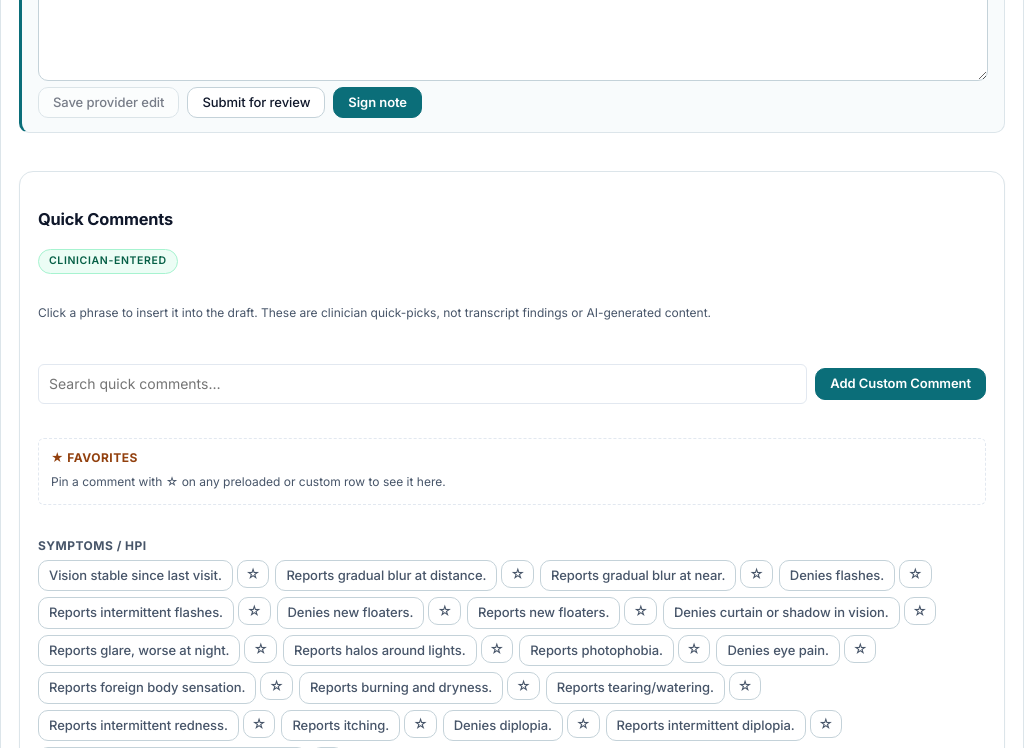
NoteWorkspace › search filters the preloaded pack
(page scrolled)
Type "macula" into the search field with test id "quick-comments-search" at (423, 384), box [38,364,807,404]
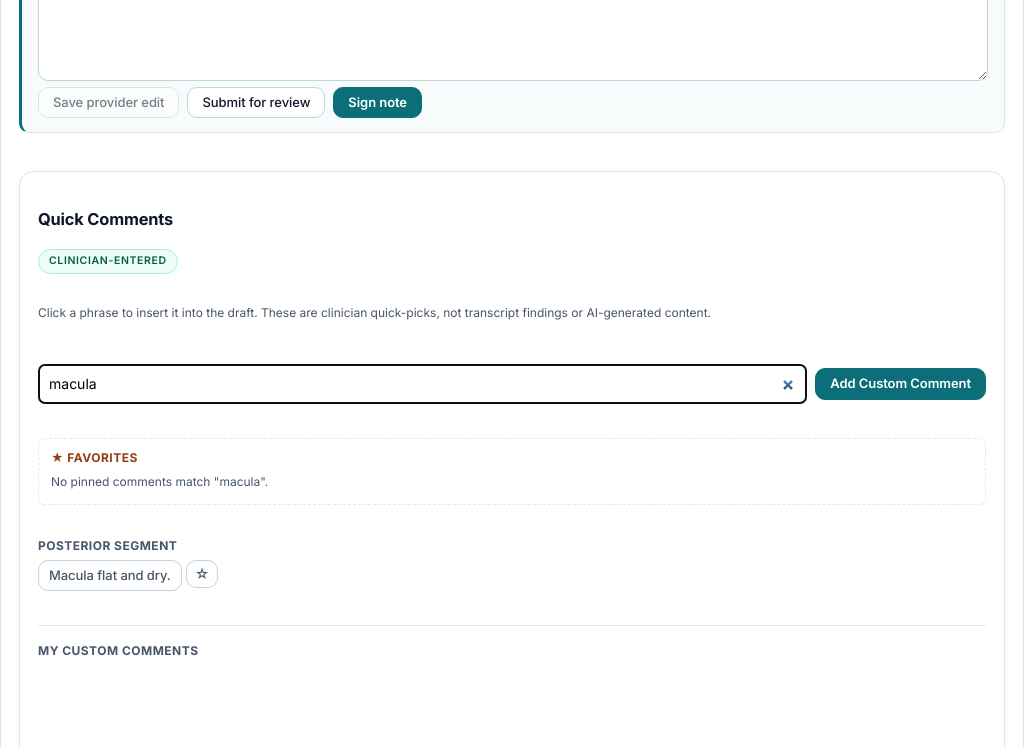
Result: the element with test id "quick-comments-preloaded" shows "Macula flat and dry" at [38,560,182,591]
Result: the element with test id "quick-comments-preloaded" no longer shows "Vision stable since last visit" at [38,538,218,591]
